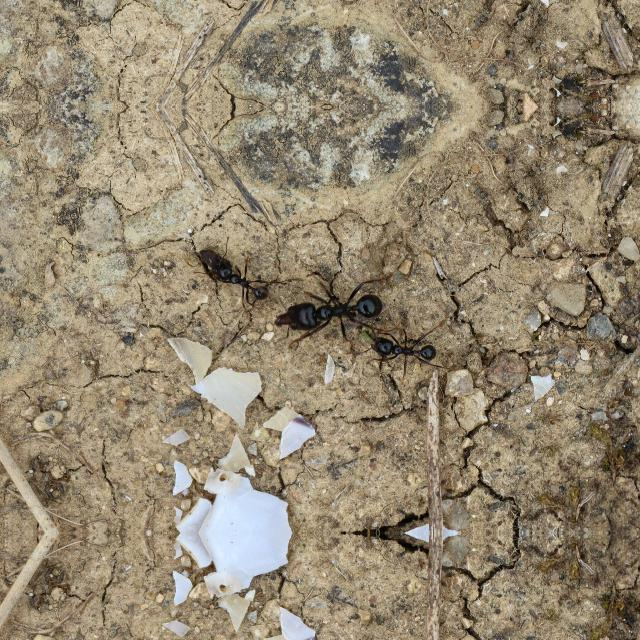Messor: (187, 242, 269, 310), (275, 284, 379, 334), (372, 324, 442, 370)
